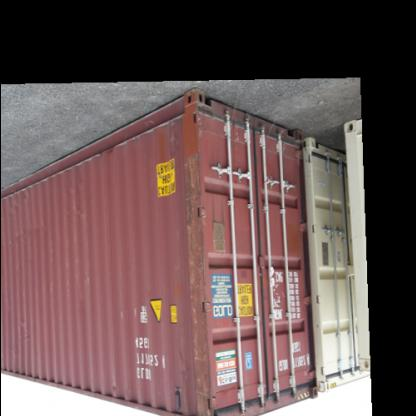Damage: (181, 152, 213, 414)
